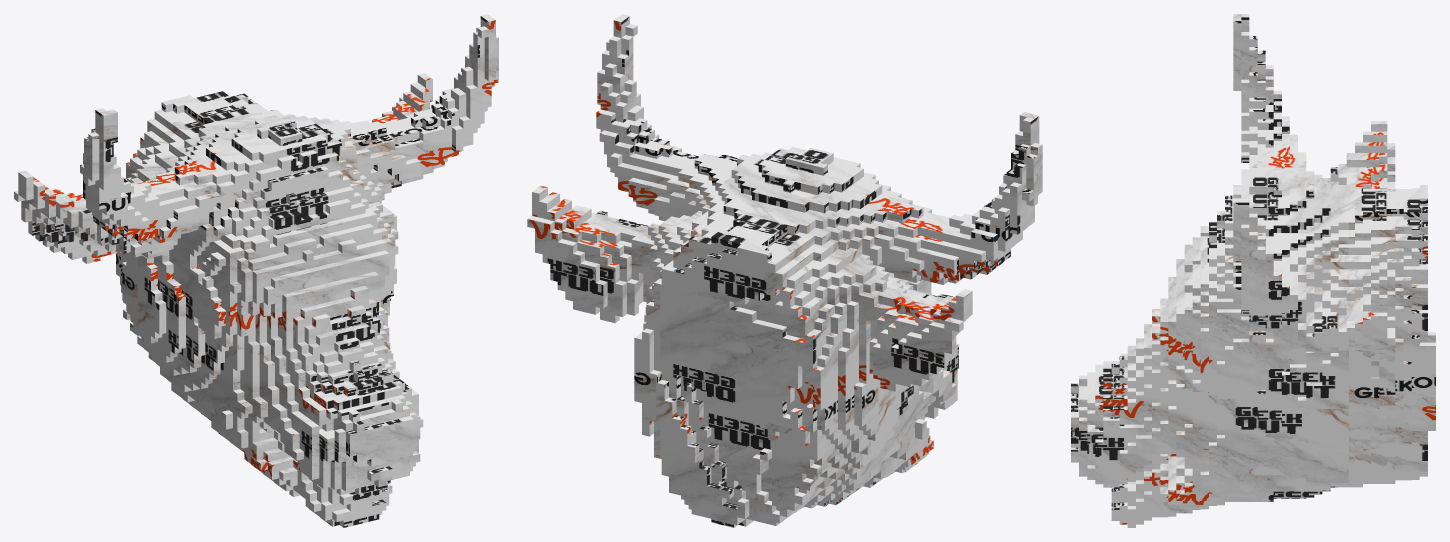
Rendered from bull_web2.glb.
3 views of the same model, side by side, from view 1: azimuth 30°, elevation 25°; view 2: azimuth 150°, elevation 25°; view 3: azimuth 270°, elevation 25° (orthographic). The views are drawn at different scales.
Visible parts, largest first — view 1: 0.001; view 2: 0.001; view 3: 0.001.
Boxes of the visible parts, box(x1,y1,x2,y2) form: 0.001: box(14, 14, 498, 527); 0.001: box(527, 14, 1042, 527); 0.001: box(1071, 14, 1435, 527).
Bounding box in the file's own units: 1 × 0.9673 × 0.7915.
Materials: 1 (1 with a texture image).
